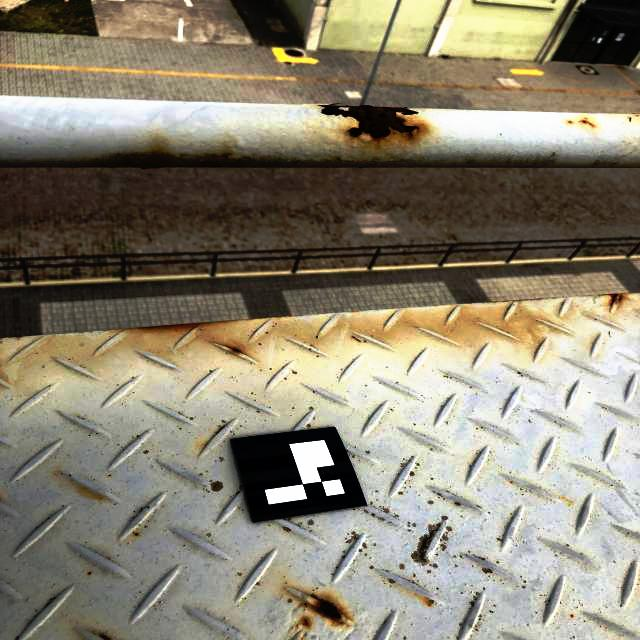Corrosion: (321, 103, 417, 138), (139, 320, 227, 332), (316, 596, 345, 623), (605, 293, 623, 302), (299, 615, 312, 627), (580, 120, 595, 128), (230, 348, 240, 354)
